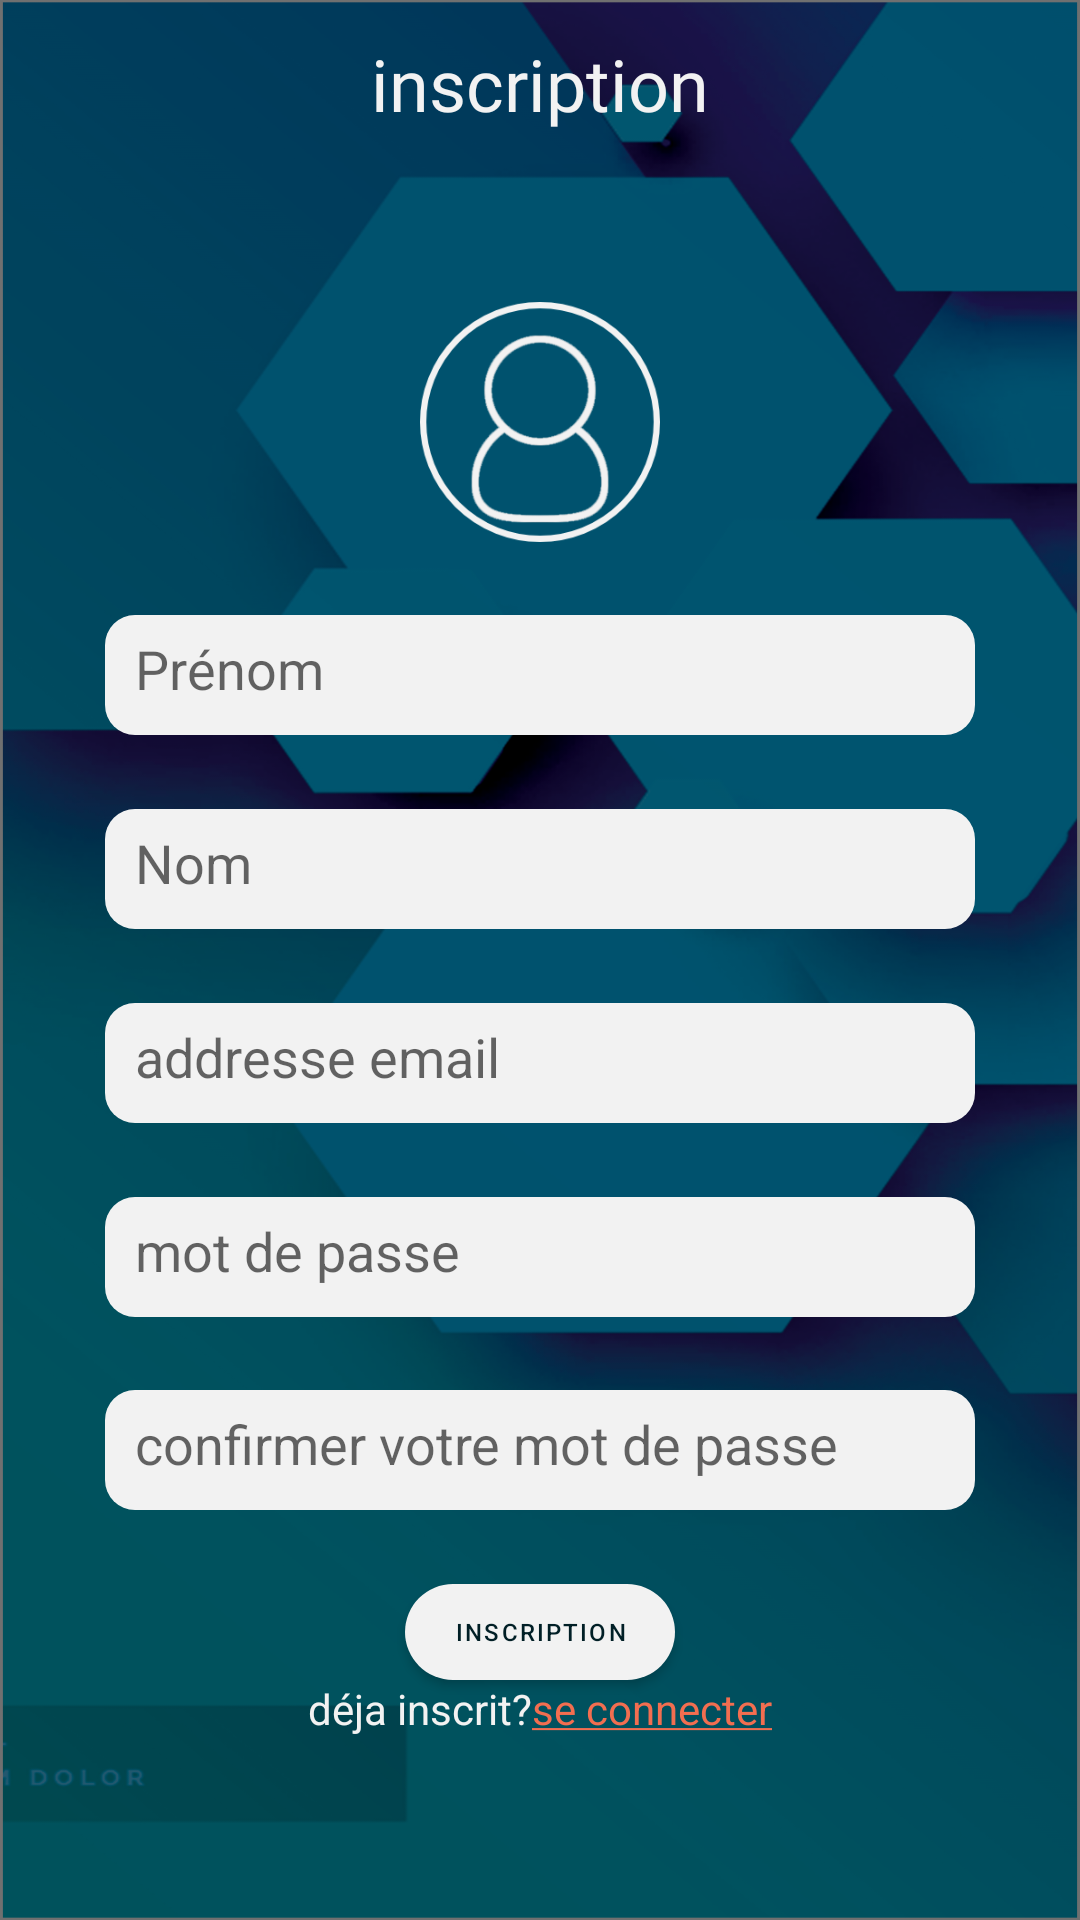

Locate icon controls on the screen. Image size 1080x1920, boxes as (x1, y1, x2, y2).
person: (420, 302, 660, 542)
